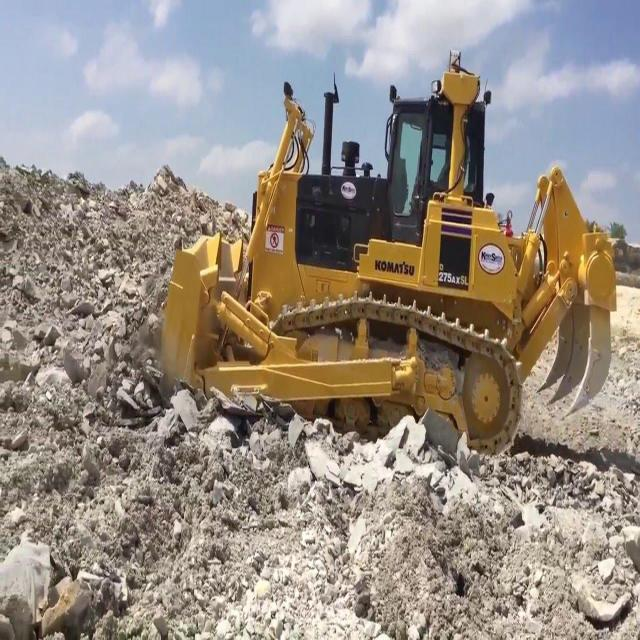Bulldozer: (132, 47, 613, 541)
